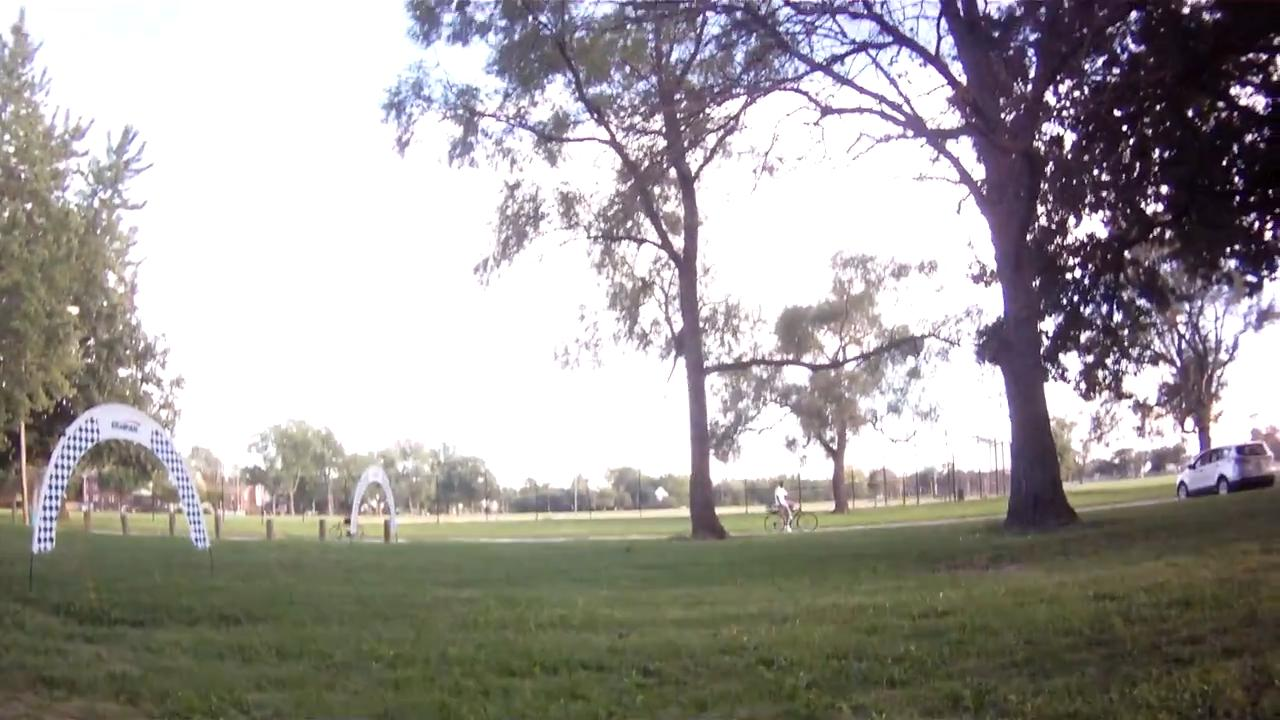gate: (28, 403, 211, 558)
